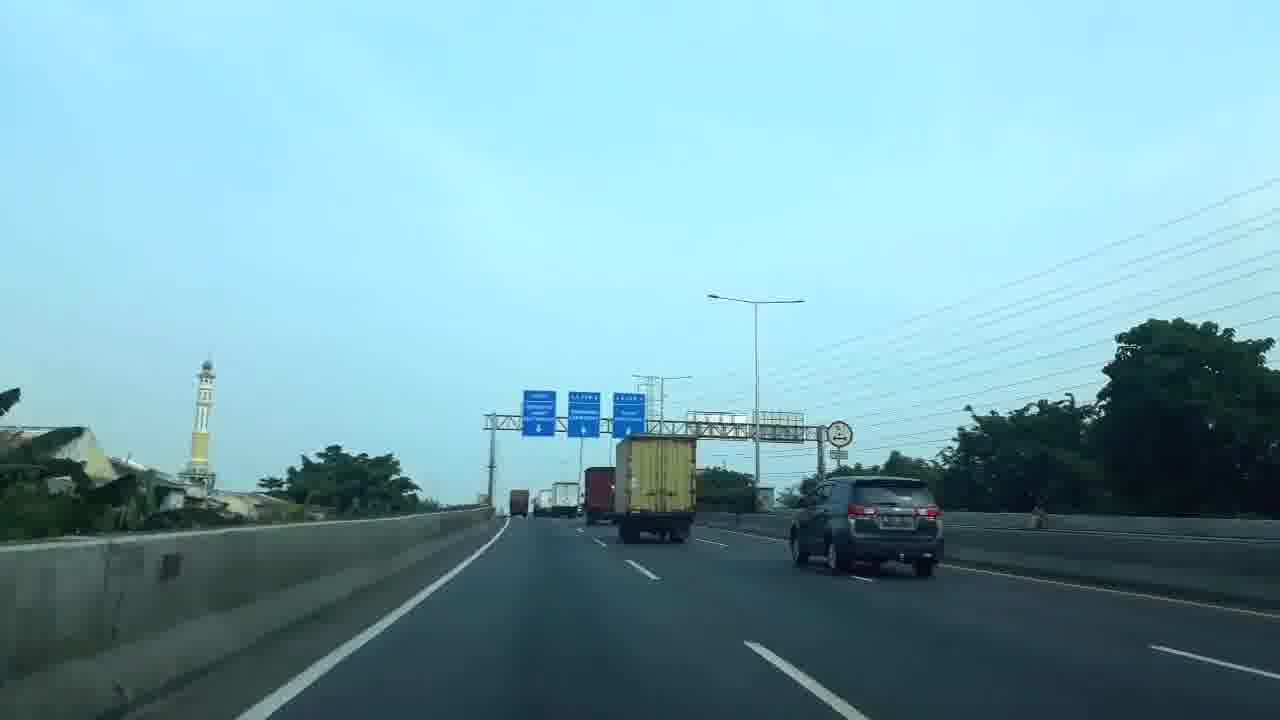plate_positive: (882, 516, 913, 528)
